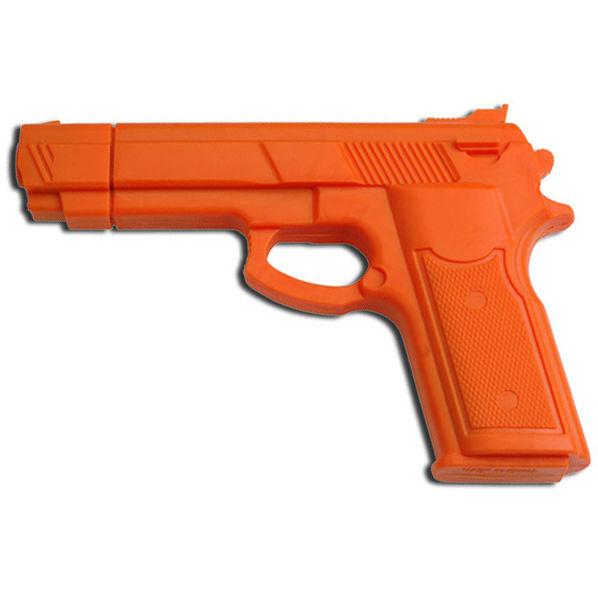Arma Falsa: (5, 101, 590, 495)
